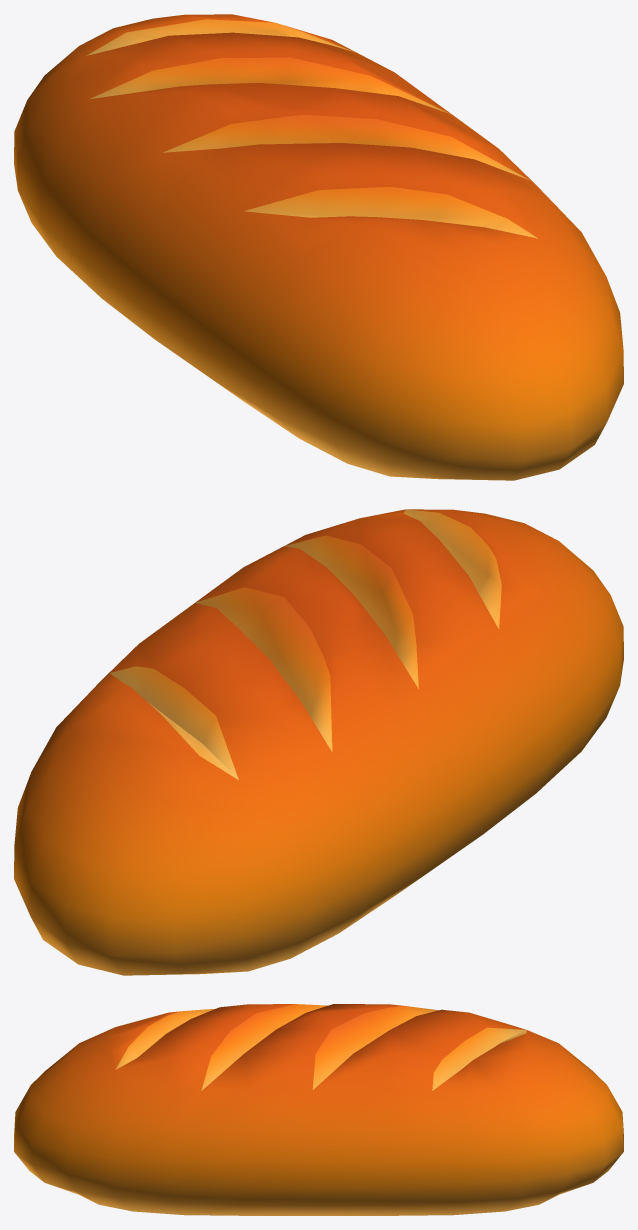
The model's file is loaf_004.fbx.
3 views of the same model, one above another, from view 1: azimuth 30°, elevation 25°; view 2: azimuth 150°, elevation 25°; view 3: azimuth 270°, elevation 25° (orthographic). The views are drawn at different scales.
Parts seen in each view (by area): view 1: loaf_004; view 2: loaf_004; view 3: loaf_004.
Part boxes in pixels (x1,y1,x2,y2): loaf_004: (14,14,623,480); loaf_004: (14,509,623,975); loaf_004: (14,1004,623,1215).
Size of the model in its own units: 14.33 by 31.79 by 8.83.
